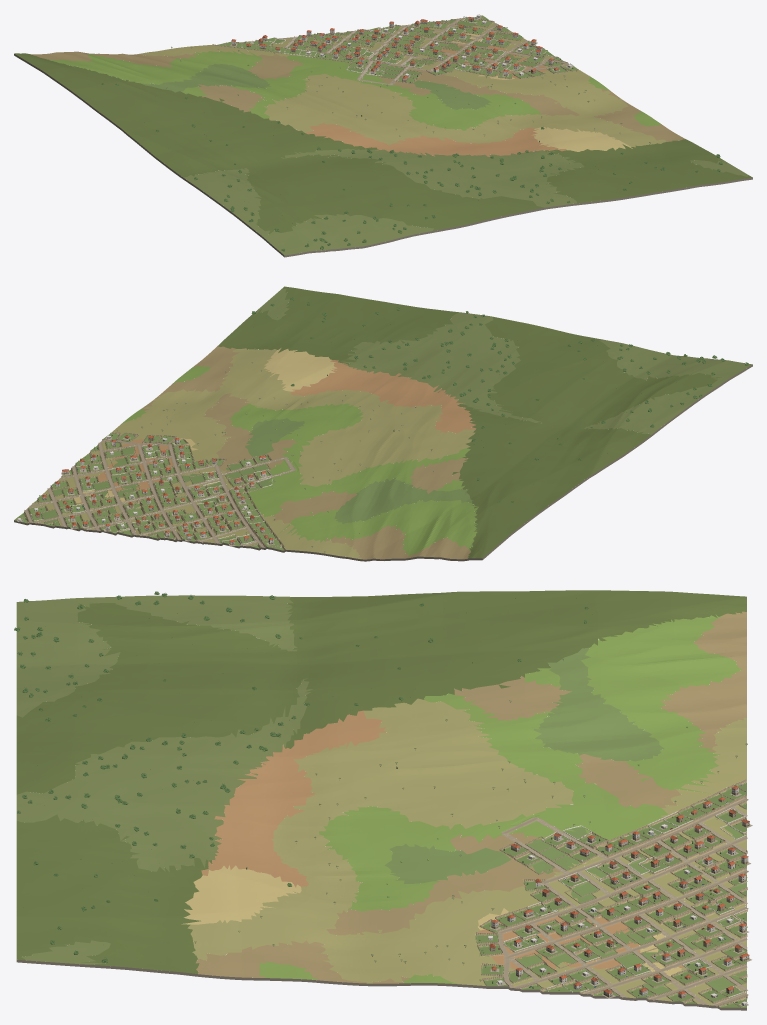
Rendered from parca_+9_-1-yakin.glb.
3 views of the same model, one above another, from view 1: azimuth 30°, elevation 25°; view 2: azimuth 150°, elevation 25°; view 3: azimuth 270°, elevation 25° (orthographic). The views are drawn at different scales.
Parts seen in each view (by area): view 1: parca_+9_-1_arazi, parca_+9_-1_duvarlar, parca_+9_-1_yapilar, parca_+9_-1_bitkiler, parca_+9_-1_yollar; view 2: parca_+9_-1_arazi, parca_+9_-1_duvarlar, parca_+9_-1_yapilar, parca_+9_-1_yollar, parca_+9_-1_bitkiler; view 3: parca_+9_-1_arazi, parca_+9_-1_duvarlar, parca_+9_-1_yapilar, parca_+9_-1_yollar, parca_+9_-1_bitkiler.
Boxes of the visible parts, x1=… form: parca_+9_-1_arazi: x1=14, y1=15, x2=752, y2=257; parca_+9_-1_duvarlar: x1=212, y1=16, x2=578, y2=83; parca_+9_-1_yapilar: x1=230, y1=14, x2=573, y2=81; parca_+9_-1_bitkiler: x1=101, y1=16, x2=722, y2=251; parca_+9_-1_yollar: x1=250, y1=17, x2=568, y2=84; parca_+9_-1_arazi: x1=14, y1=286, x2=752, y2=561; parca_+9_-1_duvarlar: x1=16, y1=432, x2=284, y2=549; parca_+9_-1_yapilar: x1=17, y1=435, x2=274, y2=546; parca_+9_-1_yollar: x1=24, y1=440, x2=294, y2=547; parca_+9_-1_bitkiler: x1=22, y1=297, x2=748, y2=553; parca_+9_-1_arazi: x1=16, y1=590, x2=746, y2=1010; parca_+9_-1_duvarlar: x1=476, y1=779, x2=747, y2=1007; parca_+9_-1_yapilar: x1=487, y1=786, x2=752, y2=1006; parca_+9_-1_yollar: x1=499, y1=798, x2=748, y2=1006; parca_+9_-1_bitkiler: x1=14, y1=591, x2=747, y2=1005.
Size of the model in its own units: 1012 by 172 by 1012.
